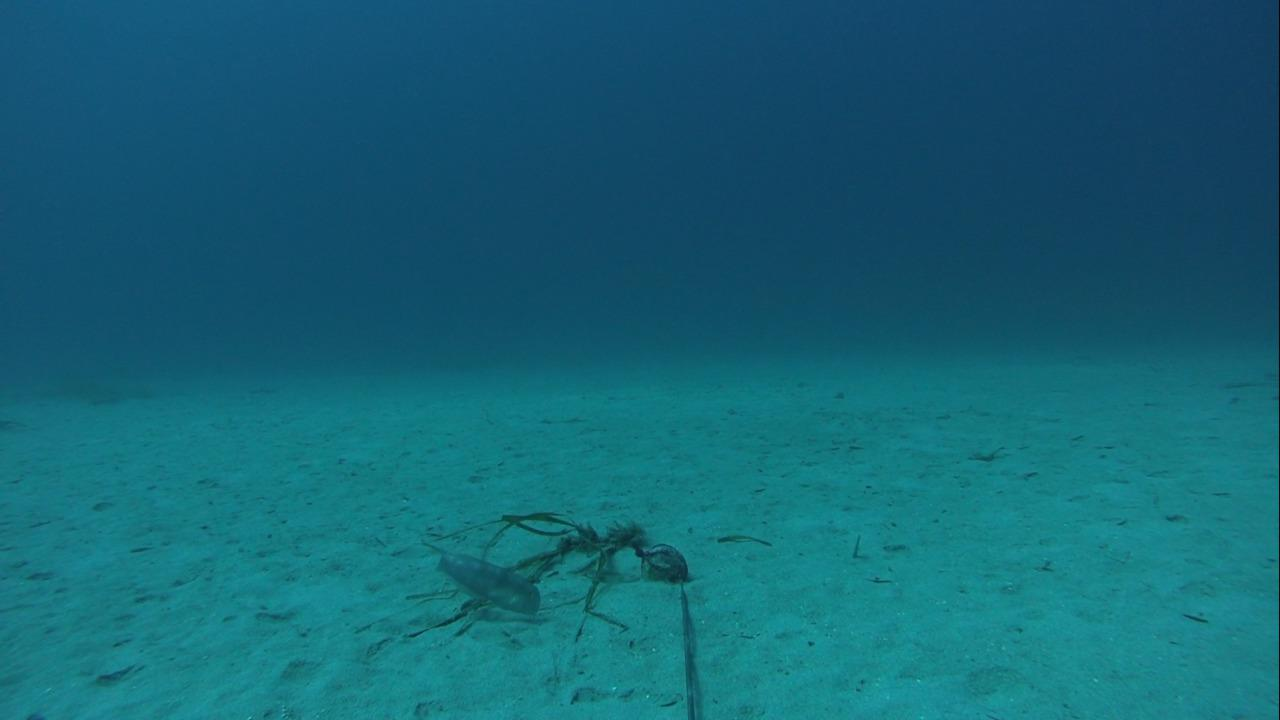raor: (429, 547, 546, 620)
